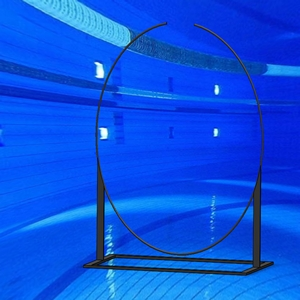circle: (82, 21, 276, 277)
